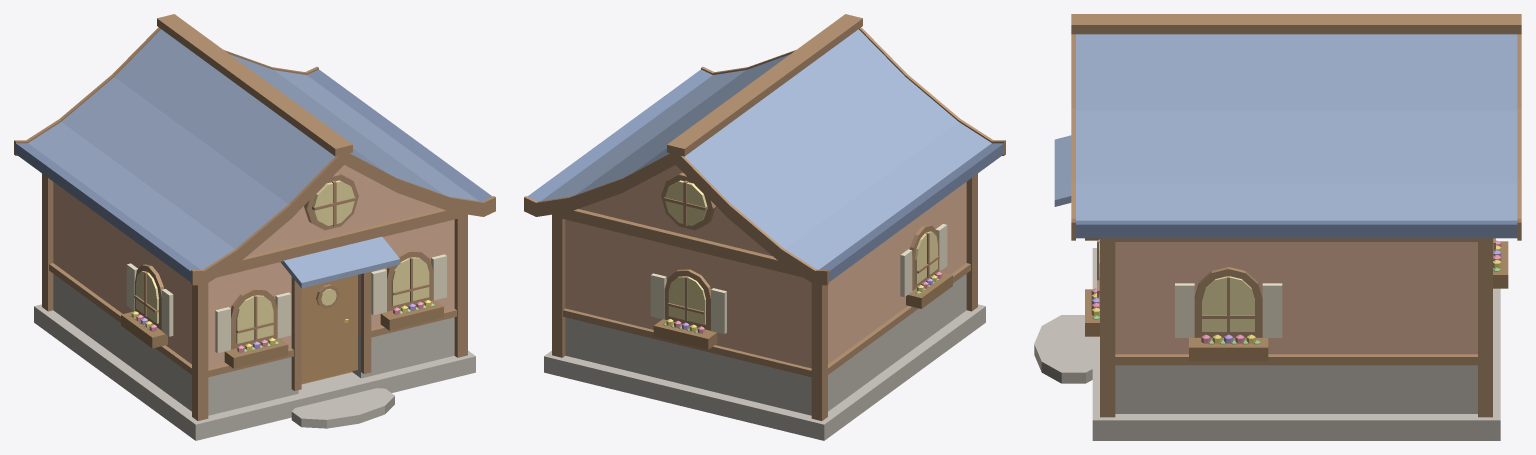
Rendered from inn_brick.glb.
The picture shows the model from 3 angles, left to right: view 1: azimuth 30°, elevation 25°; view 2: azimuth 150°, elevation 25°; view 3: azimuth 270°, elevation 25°; orthographic projection. The views are drawn at different scales.
Parts seen in each view (by area): view 1: Player; view 2: Player; view 3: Player.
Part boxes in pixels (left/top/right/bottom): Player: left=14, top=14, right=495, bottom=440; Player: left=524, top=14, right=1005, bottom=440; Player: left=1034, top=14, right=1521, bottom=440.
Bounding box in the file's own units: 5.84 × 4.9 × 6.45.
